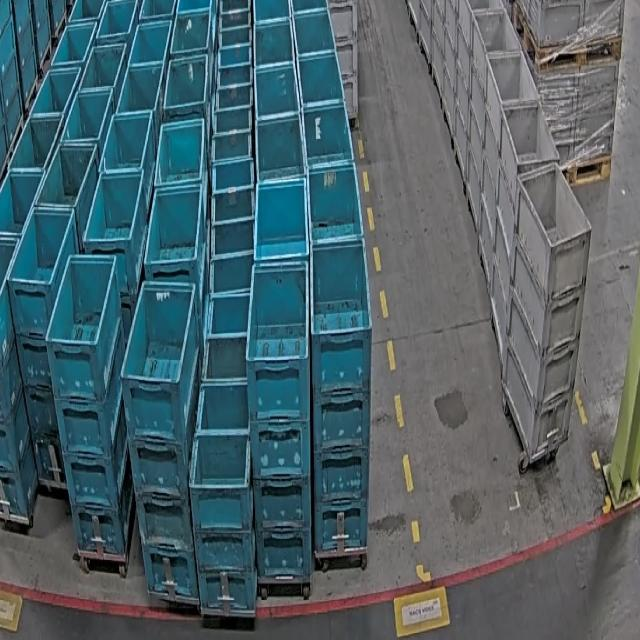4G: (500, 161, 592, 467)
B4: (44, 254, 135, 561), (119, 281, 202, 605), (246, 262, 314, 583), (5, 205, 80, 489), (308, 239, 371, 553), (0, 238, 40, 524)
B8: (189, 382, 257, 616)
